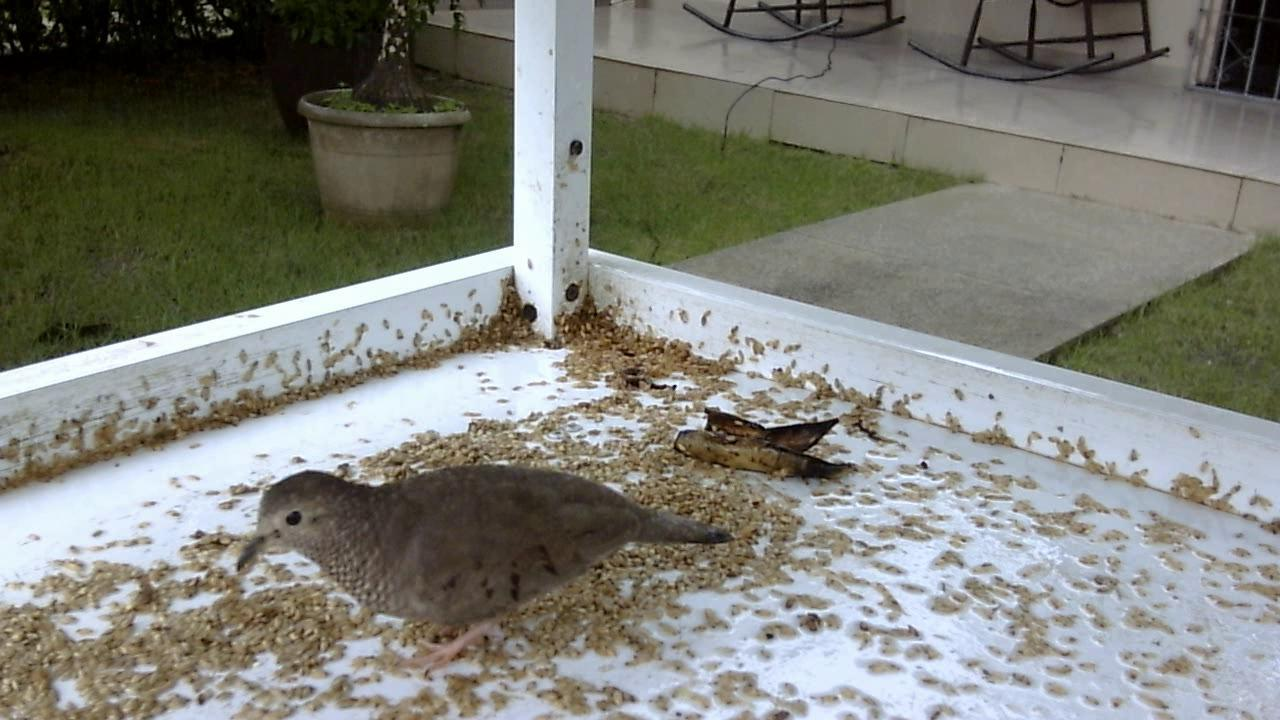rolinha: (206, 452, 745, 677)
